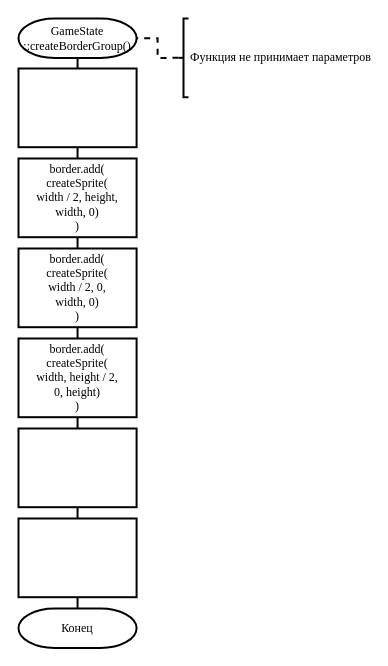
Some shapes in this 388 by 666 pixel diagram are drawn without their labels. Here are the shapes that lost their labels. From the top down, the box of each, then its label:
(17, 67, 137, 148): borders = new Group()
(17, 427, 137, 508): border.add( createSprite( 0, height / 2, 0, height) )
(17, 517, 137, 598): return borders
